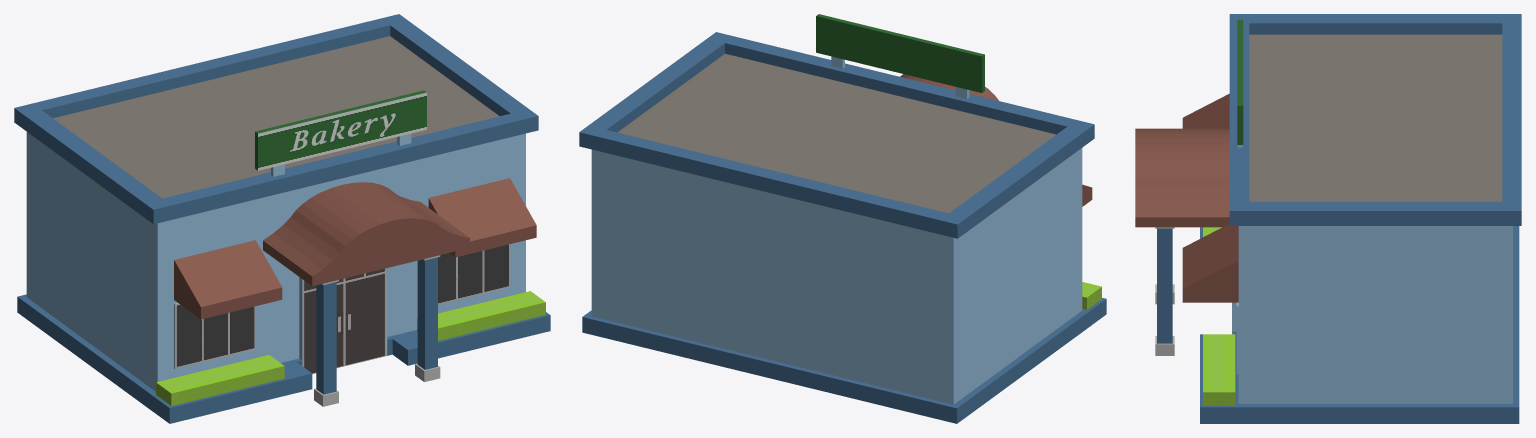
Rendered from Building_Bakery.glb.
3 views of the same model, side by side, from view 1: azimuth 30°, elevation 25°; view 2: azimuth 150°, elevation 25°; view 3: azimuth 270°, elevation 25° (orthographic). The views are drawn at different scales.
Visible parts, largest first — view 1: Building_Bakery; view 2: Building_Bakery; view 3: Building_Bakery.
Part boxes in pixels (x1,y1,x2,y2): Building_Bakery: [14, 14, 550, 423]; Building_Bakery: [579, 14, 1106, 423]; Building_Bakery: [1135, 14, 1521, 423].
Bounding box in the file's own units: 1.09 × 0.6784 × 0.902.
Materials: 1 (1 with a texture image).
